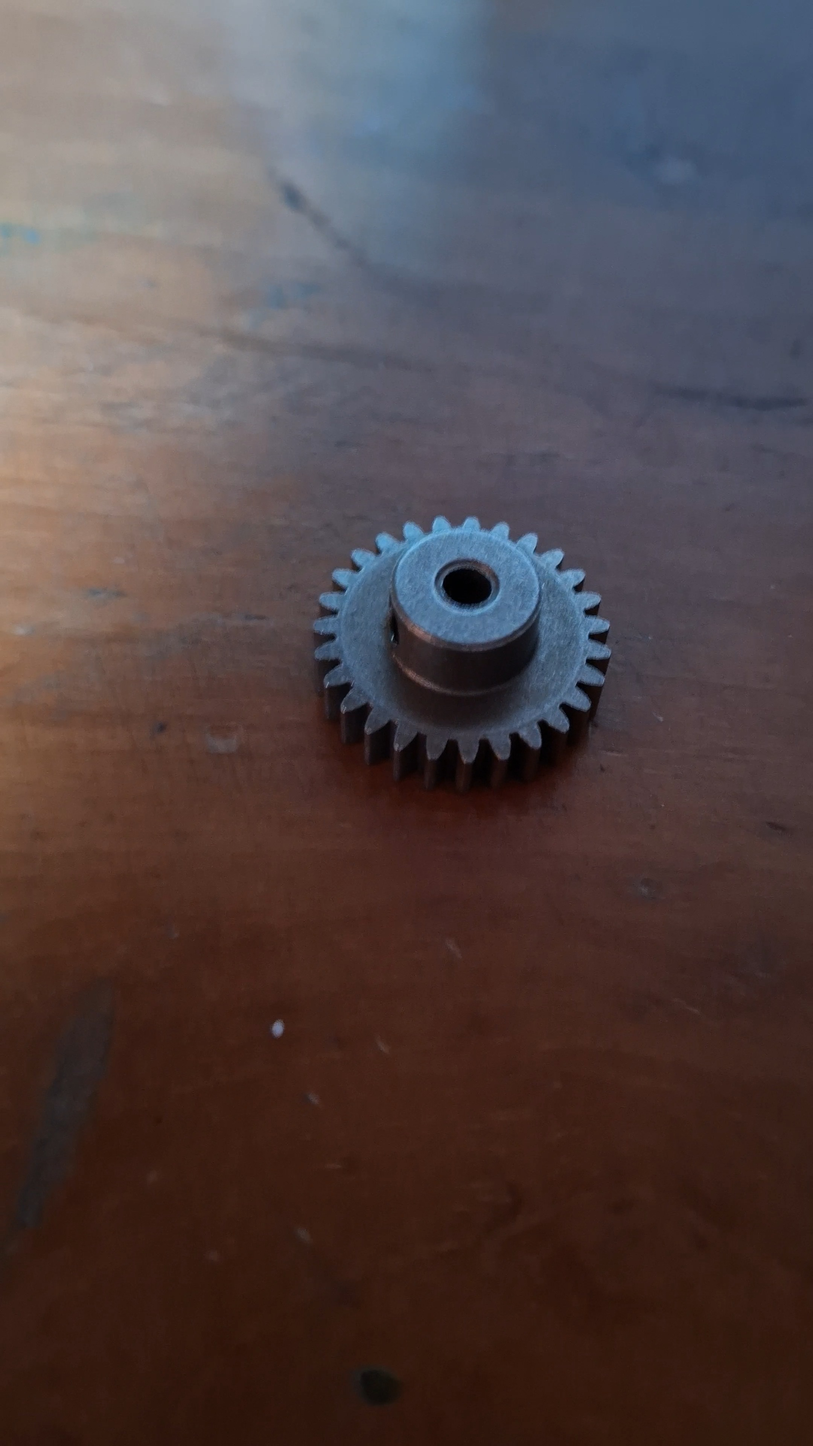spur gear: (314, 518, 610, 790)
